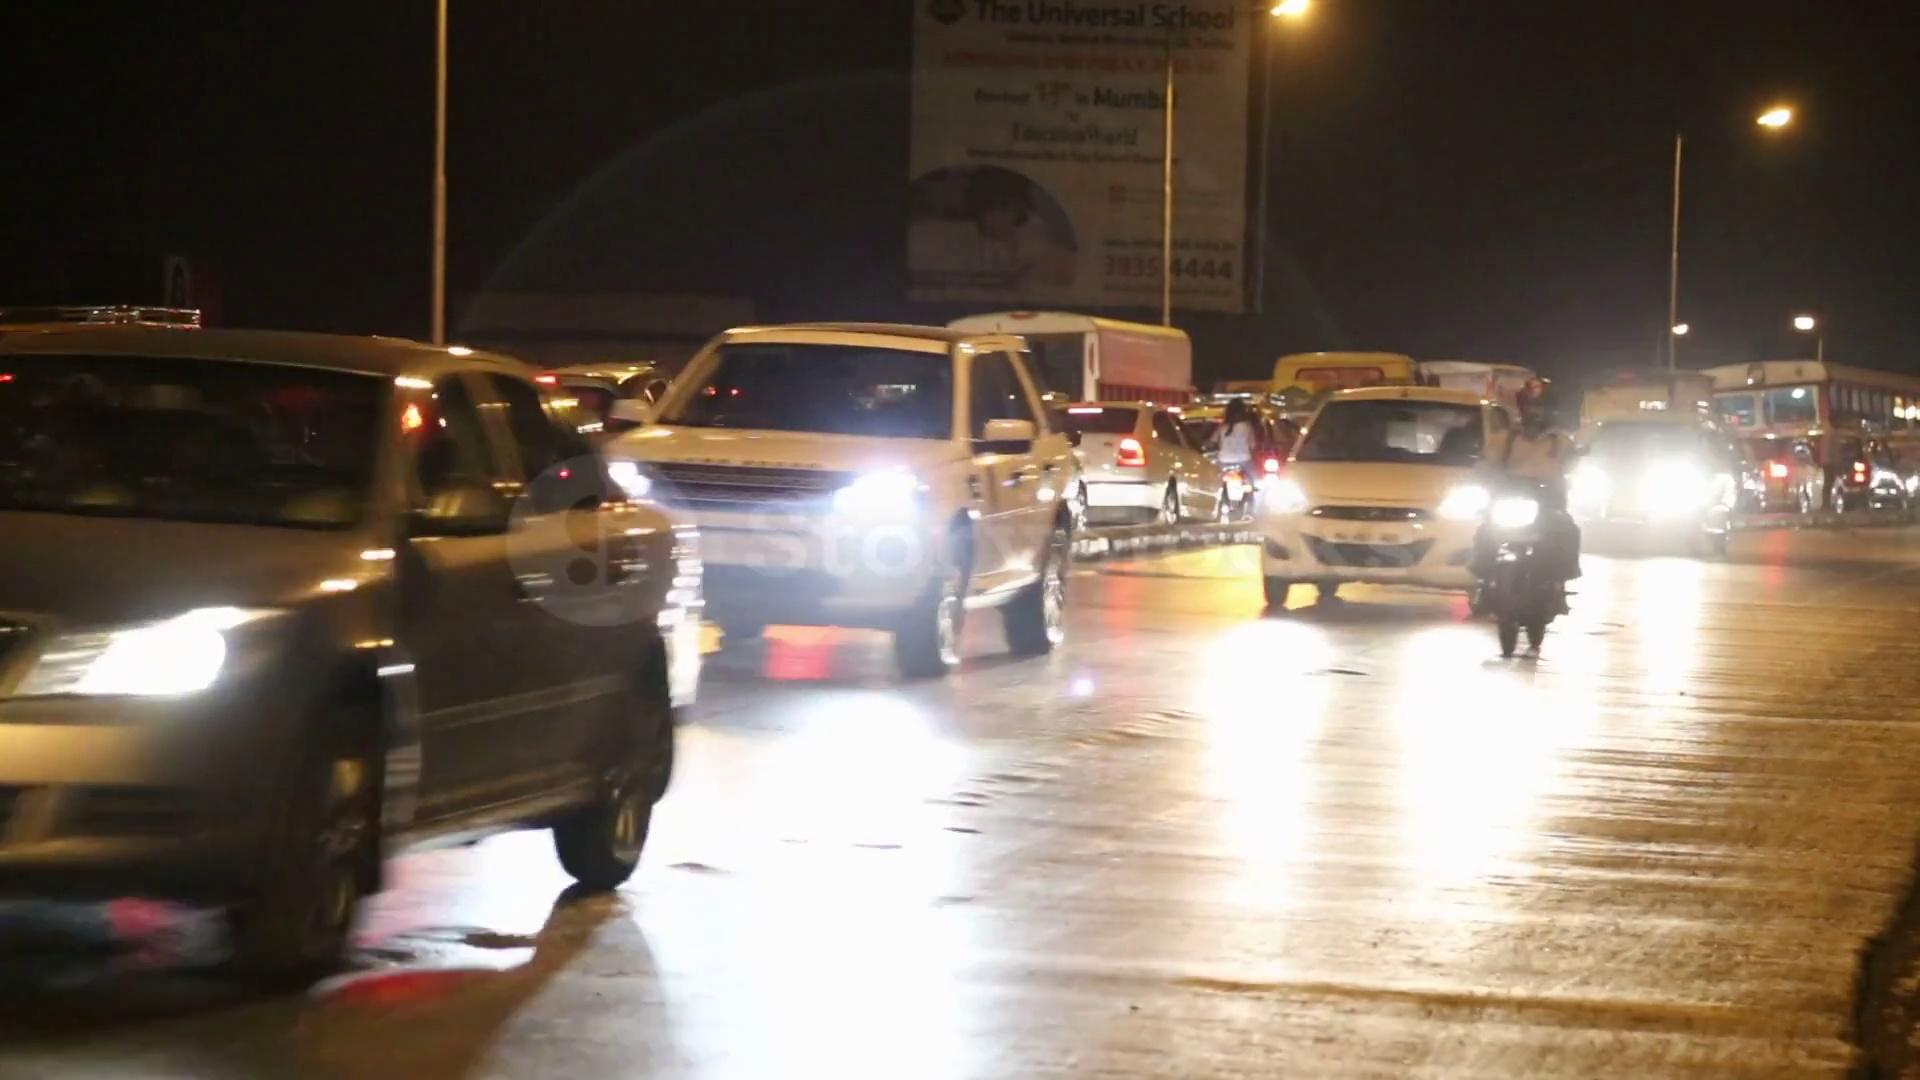rider: (1471, 376, 1584, 615), (1204, 398, 1264, 522)
